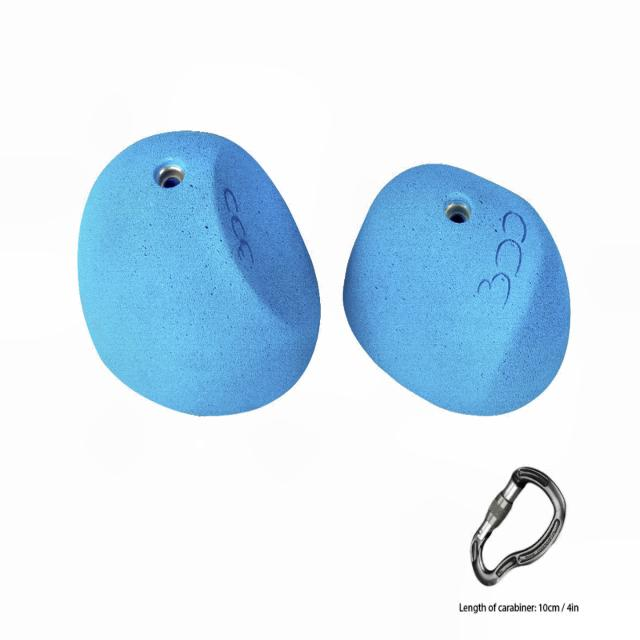Hold: (77, 130, 321, 418), (340, 164, 570, 417)
